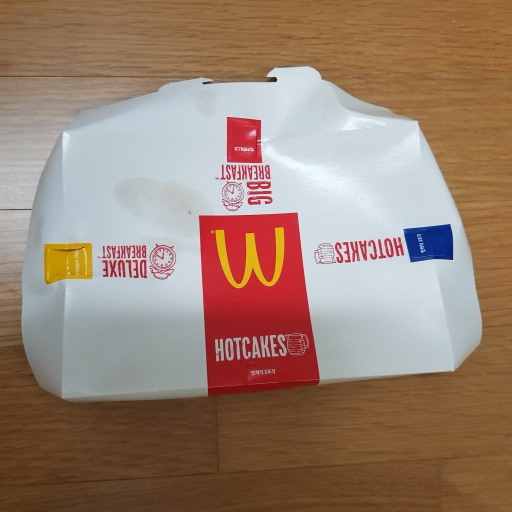Paper_0: (17, 66, 492, 406)
